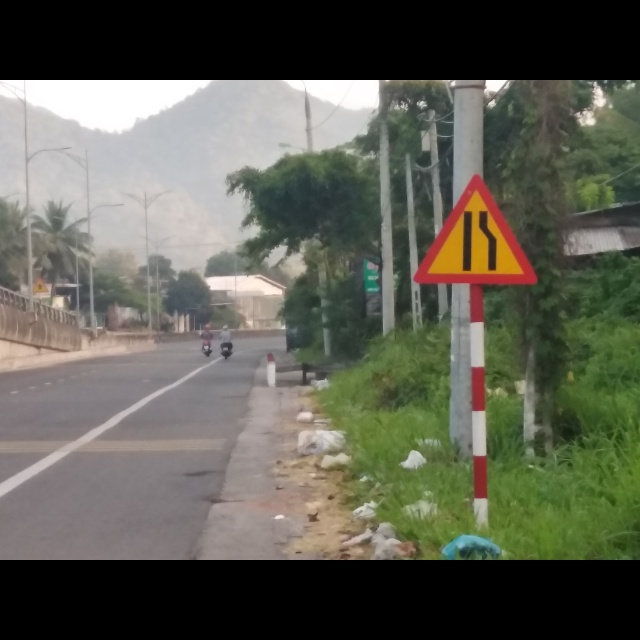Đường bị hẹp bên phải: (415, 173, 544, 285)
